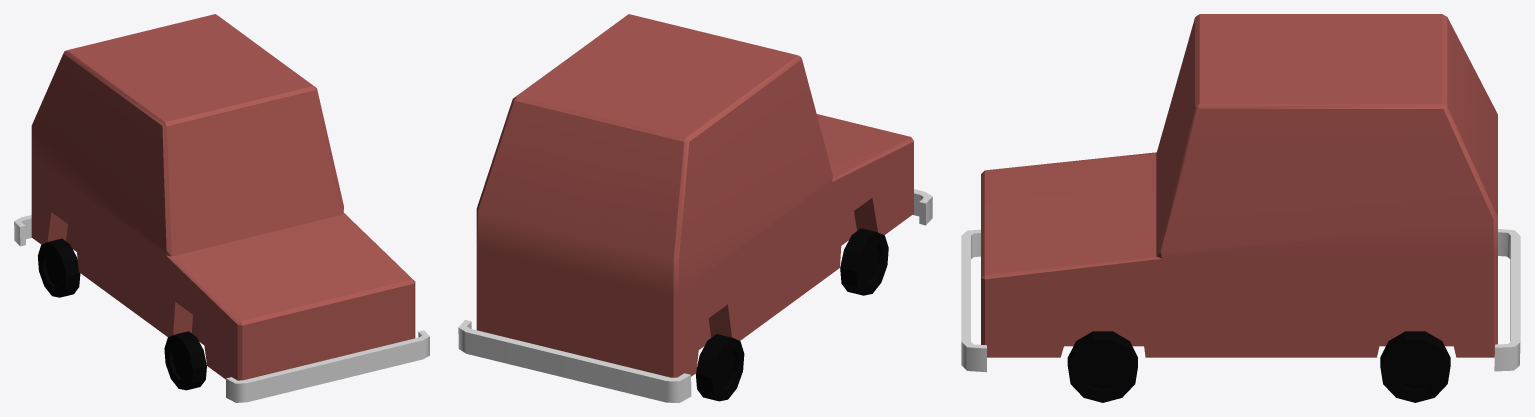
The model's file is Car.fbx.
The picture shows the model from 3 angles, left to right: view 1: azimuth 30°, elevation 25°; view 2: azimuth 150°, elevation 25°; view 3: azimuth 270°, elevation 25°; orthographic projection. The views are drawn at different scales.
Visible parts, largest first — view 1: Chassis, Bumpers, Car; view 2: Chassis, Bumpers, Car; view 3: Chassis, Car, Bumpers.
Boxes of the visible parts, box(x1,y1,x2,y2) form: Chassis: box(31, 14, 415, 380); Bumpers: box(14, 215, 429, 402); Car: box(38, 238, 206, 390); Chassis: box(476, 14, 913, 377); Bumpers: box(458, 189, 932, 402); Car: box(695, 228, 888, 401); Chassis: box(981, 14, 1497, 357); Car: box(1067, 331, 1450, 402); Bumpers: box(961, 228, 1520, 372).
Size of the model in its own units: 3.69 by 4.12 by 7.3.
